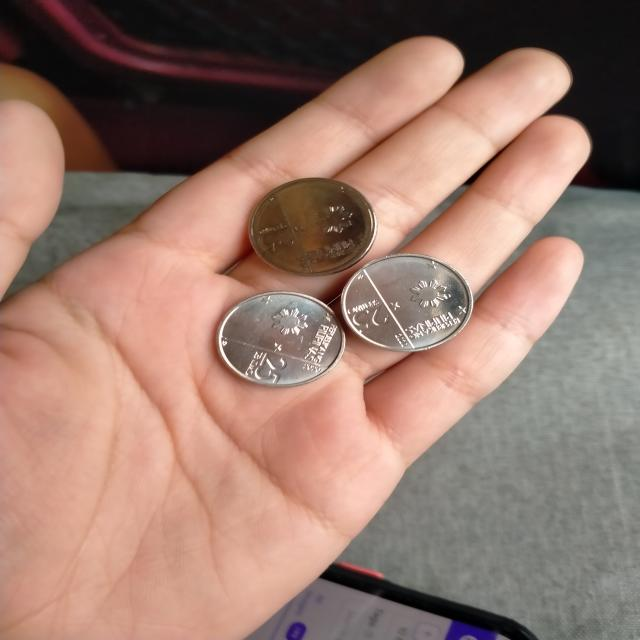25Cent_New_Front: (242, 348, 291, 390), (344, 295, 402, 330)
